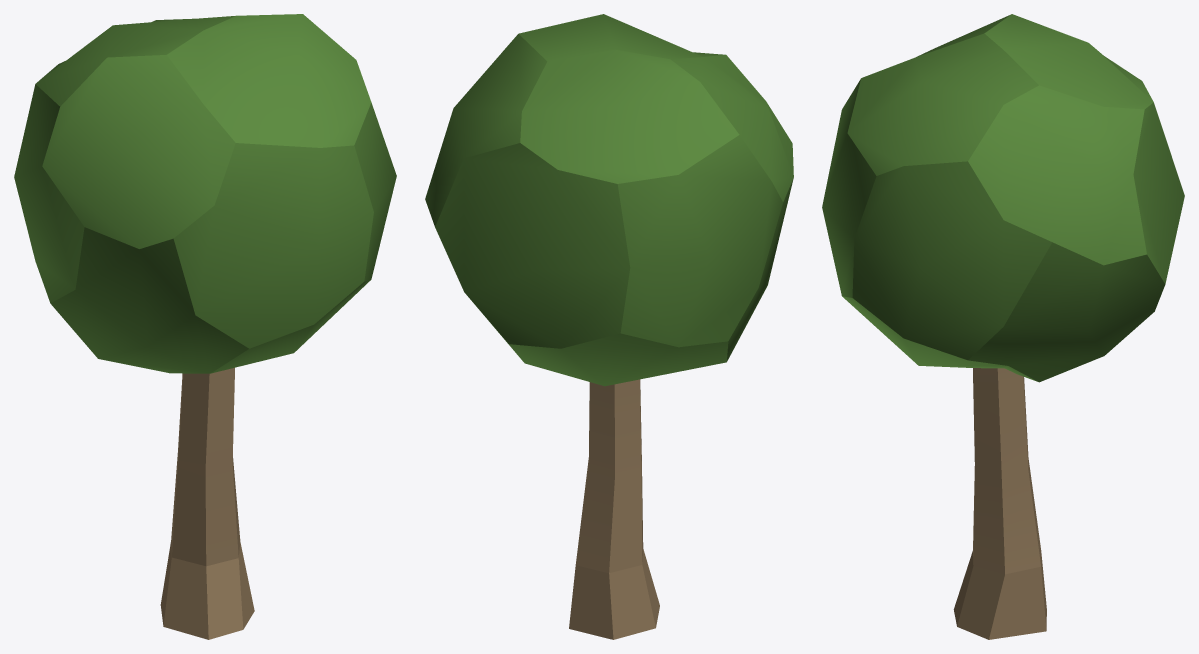
The model's file is Tree_01-Bruno.fbx.
3 views of the same model, side by side, from view 1: azimuth 30°, elevation 25°; view 2: azimuth 150°, elevation 25°; view 3: azimuth 270°, elevation 25° (orthographic). The views are drawn at different scales.
Visible parts, largest first — view 1: pPlatonic1, pCylinder1; view 2: pPlatonic1, pCylinder1; view 3: pPlatonic1, pCylinder1.
Part boxes in pixels (bbox=[...]): pPlatonic1: bbox=[14, 14, 396, 373]; pCylinder1: bbox=[160, 367, 254, 639]; pPlatonic1: bbox=[425, 14, 793, 386]; pCylinder1: bbox=[569, 379, 659, 639]; pPlatonic1: bbox=[822, 14, 1184, 382]; pCylinder1: bbox=[953, 368, 1046, 639].
Size of the model in its own units: 8.66 by 15.05 by 8.69.
